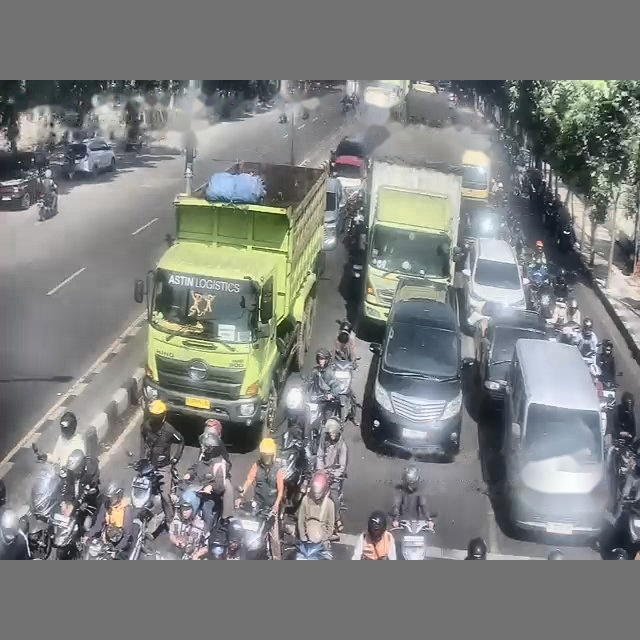Mobil: (364, 287, 465, 460), (474, 308, 548, 412), (462, 238, 527, 333), (0, 152, 38, 209), (63, 137, 115, 178), (463, 204, 506, 243), (332, 137, 367, 160)
Motor: (50, 485, 95, 559), (128, 458, 169, 539), (276, 431, 312, 512), (229, 501, 274, 559), (609, 432, 635, 505), (393, 514, 435, 559), (295, 541, 333, 559)
Truk: (134, 162, 326, 436), (362, 157, 461, 324)
